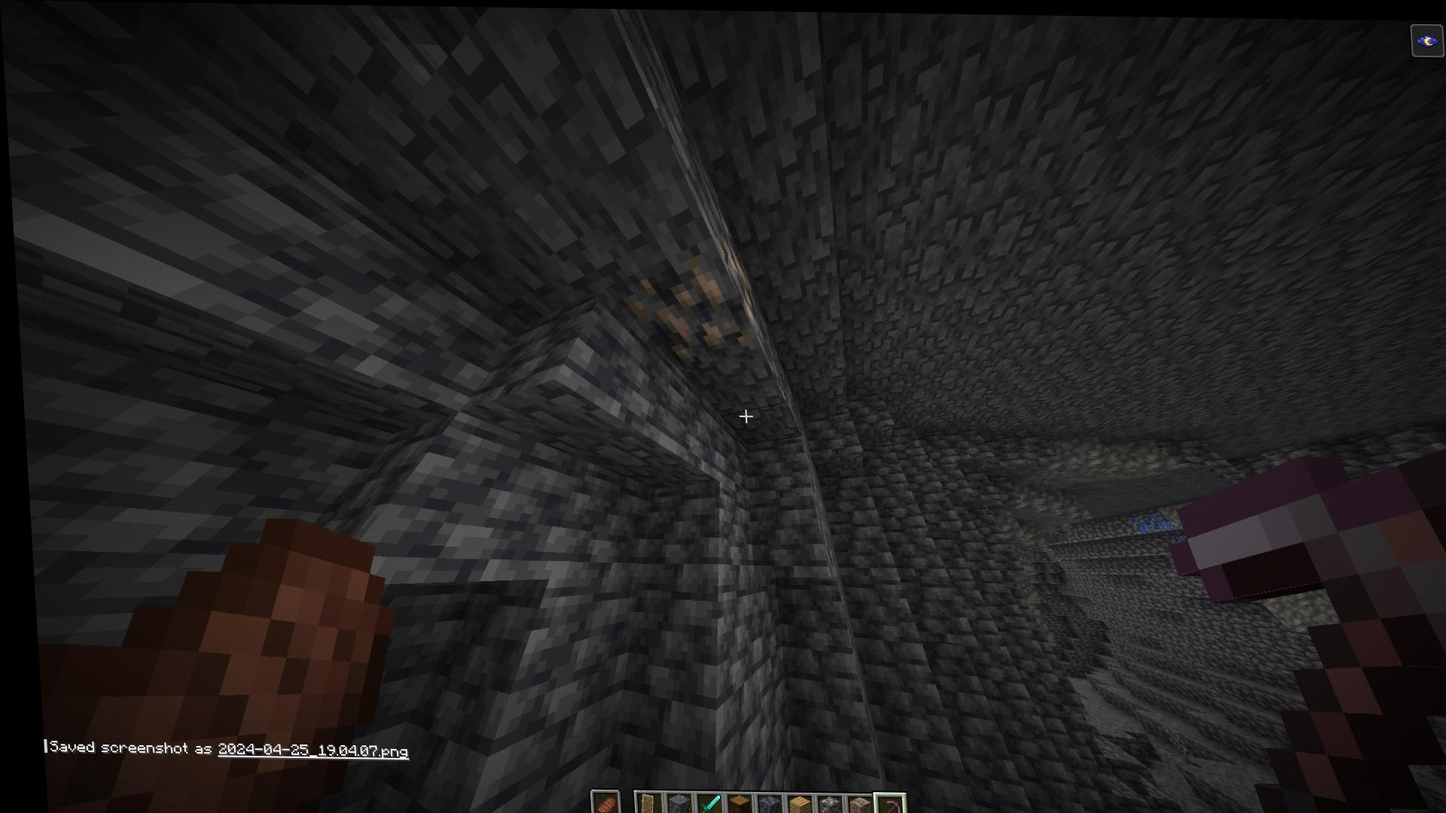iron ore: (623, 230, 765, 364)
